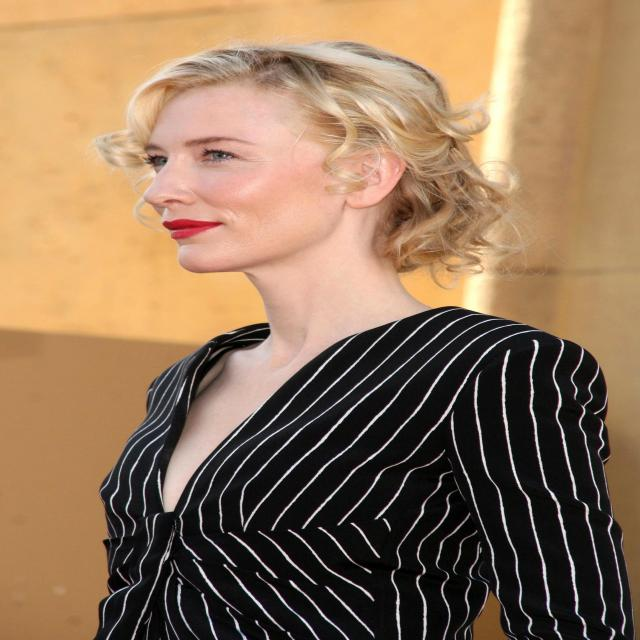earlobe: (346, 182, 380, 209)
eye: (200, 150, 241, 162), (147, 155, 175, 168)
nose: (142, 199, 193, 217)
wholeear: (345, 146, 408, 209)
